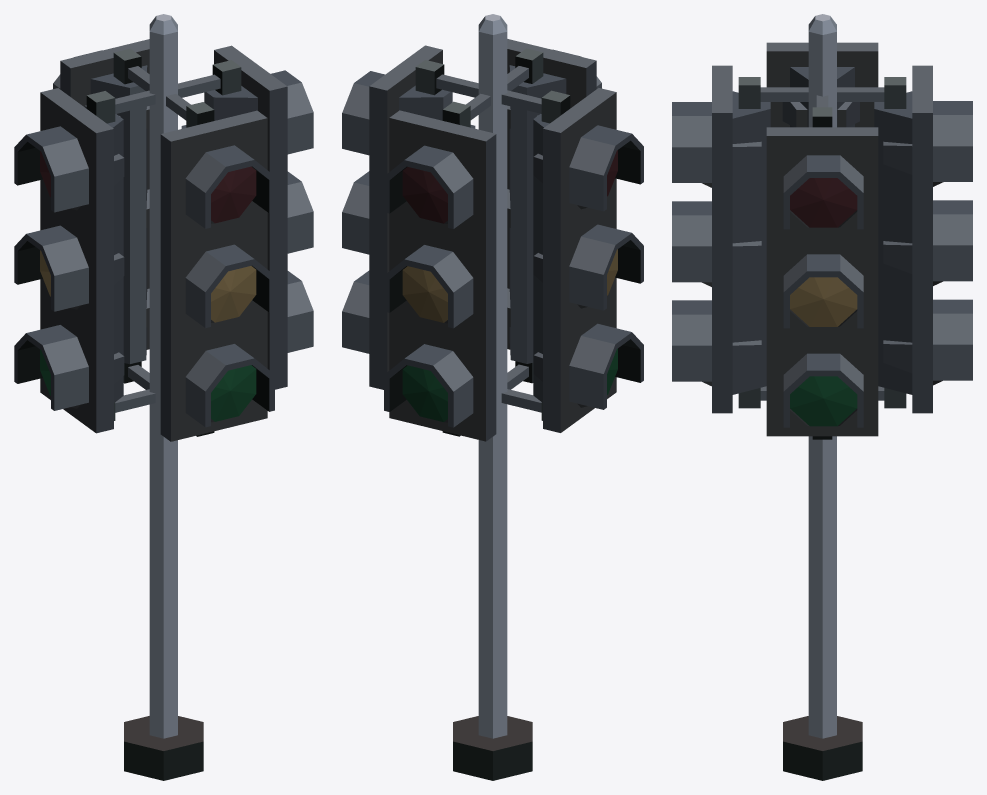
File: TB_CITY_Prop_TrafficLight_4Set_Black.FBX
3 renders of one model, left to right at view 1: azimuth 30°, elevation 25°; view 2: azimuth 150°, elevation 25°; view 3: azimuth 270°, elevation 25°, orthographic.
Parts seen in each view (by area): view 1: TB_CITY_Prop_TrafficLight_4Set_Black; view 2: TB_CITY_Prop_TrafficLight_4Set_Black; view 3: TB_CITY_Prop_TrafficLight_4Set_Black.
Part boxes in pixels (x1,y1,x2,y2): TB_CITY_Prop_TrafficLight_4Set_Black: (14, 14, 313, 780); TB_CITY_Prop_TrafficLight_4Set_Black: (342, 14, 643, 780); TB_CITY_Prop_TrafficLight_4Set_Black: (672, 14, 972, 780).
Size of the model in its own units: 2.76 by 7.53 by 2.76.
